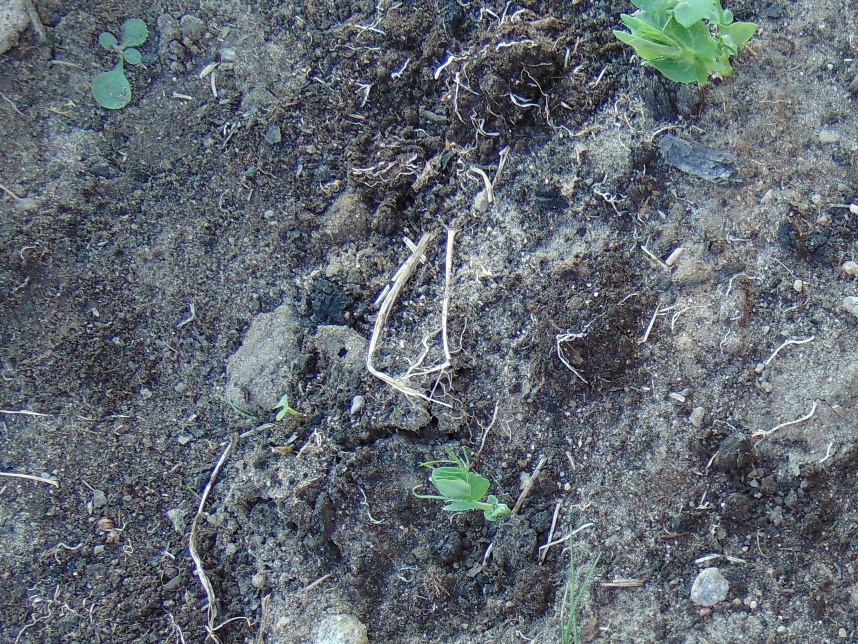crop: (613, 1, 760, 93), (409, 441, 511, 522)
weed: (557, 568, 584, 644)
